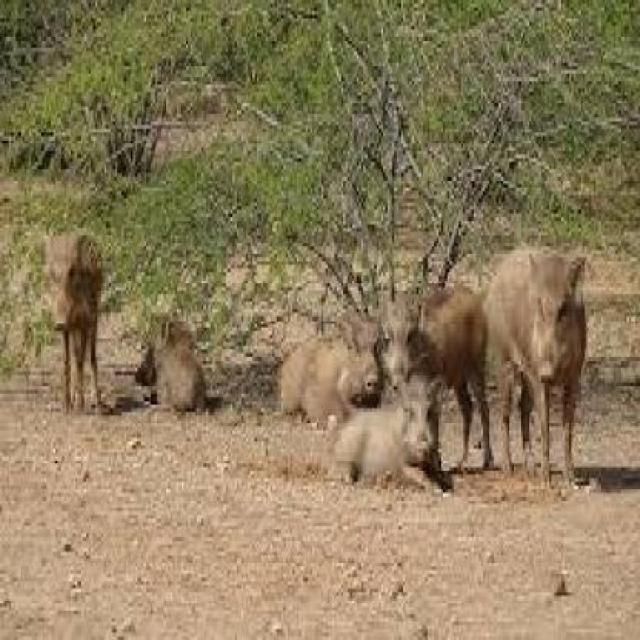wildboar: (485, 230, 597, 502), (380, 274, 502, 483), (326, 370, 454, 493), (267, 310, 391, 433), (42, 223, 106, 422), (128, 306, 225, 420)
